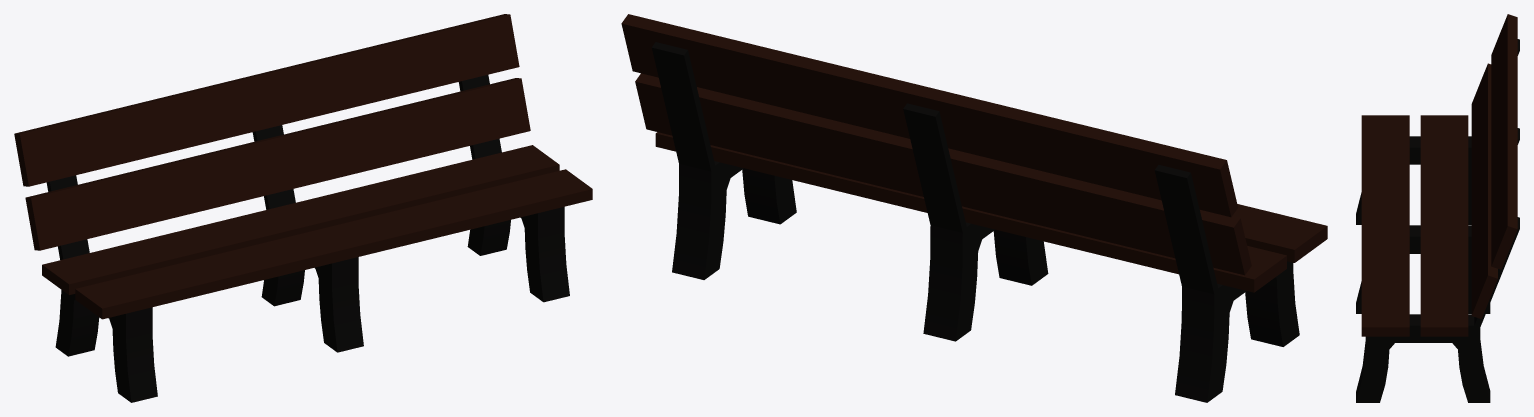
File: Prop_Bench.FBX
The picture shows the model from 3 angles, left to right: view 1: azimuth 30°, elevation 25°; view 2: azimuth 150°, elevation 25°; view 3: azimuth 270°, elevation 25°; orthographic projection. The views are drawn at different scales.
Parts seen in each view (by area): view 1: Prop_Bench; view 2: Prop_Bench; view 3: Prop_Bench.
Part boxes in pixels (x1,y1,x2,y2): Prop_Bench: (14, 14, 592, 402); Prop_Bench: (621, 14, 1327, 402); Prop_Bench: (1356, 14, 1519, 402).
Size of the model in its own units: 95.89 by 39.7 by 31.3.
